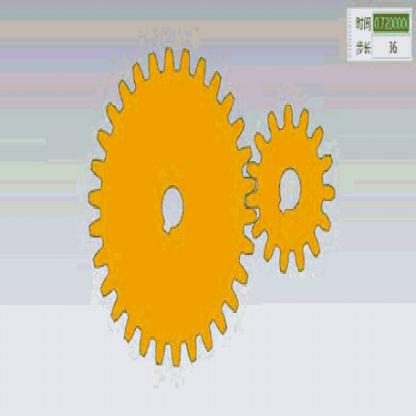FOD: (86, 43, 255, 374), (246, 102, 338, 278)
